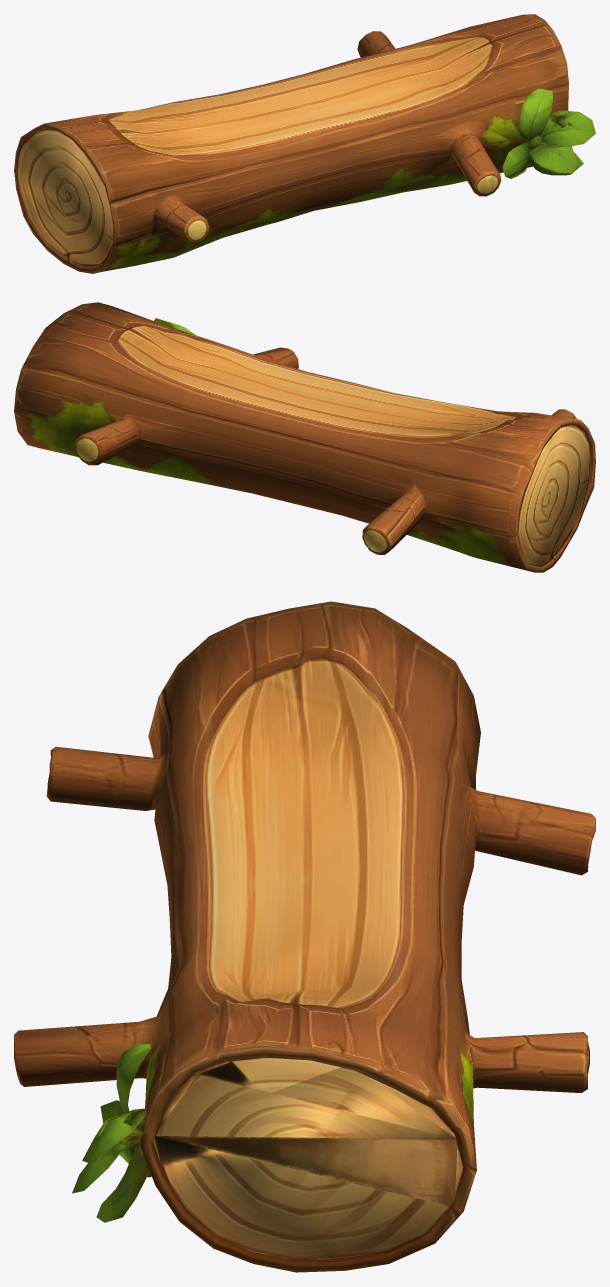
The model's file is log.glb.
The picture shows the model from 3 angles, top to bottom: view 1: azimuth 30°, elevation 25°; view 2: azimuth 150°, elevation 25°; view 3: azimuth 270°, elevation 25°; orthographic projection. The views are drawn at different scales.
Parts seen in each view (by area): view 1: log; view 2: log; view 3: log.
Boxes of the visible parts, left/top/right/bottom form: log: left=14, top=14, right=595, bottom=273; log: left=14, top=302, right=595, bottom=572; log: left=14, top=601, right=595, bottom=1272.
Bounding box in the file's own units: 1 × 0.2656 × 0.5586.
Materials: 1 (1 with a texture image).
